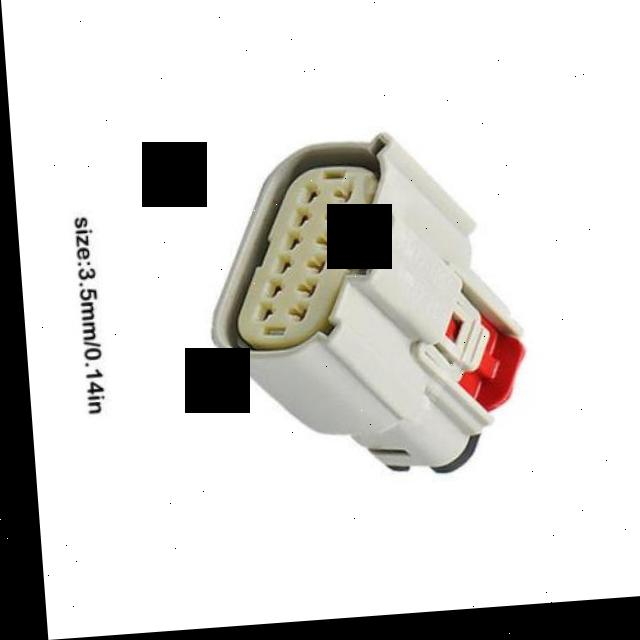connector: (207, 139, 517, 478)
